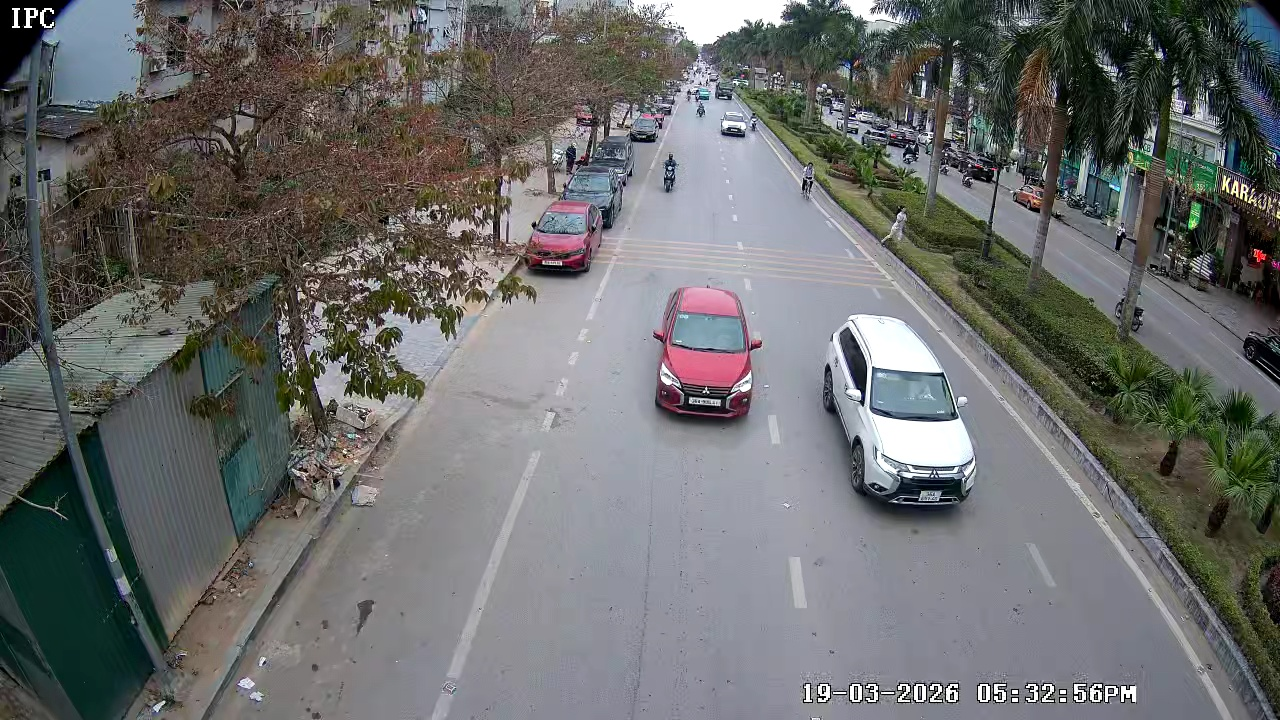bike: (797, 154, 819, 203)
car: (820, 313, 976, 504), (651, 285, 762, 422), (525, 199, 599, 276), (721, 107, 749, 140)
motorbike: (659, 155, 688, 193)
pedestrian: (885, 206, 907, 248)
